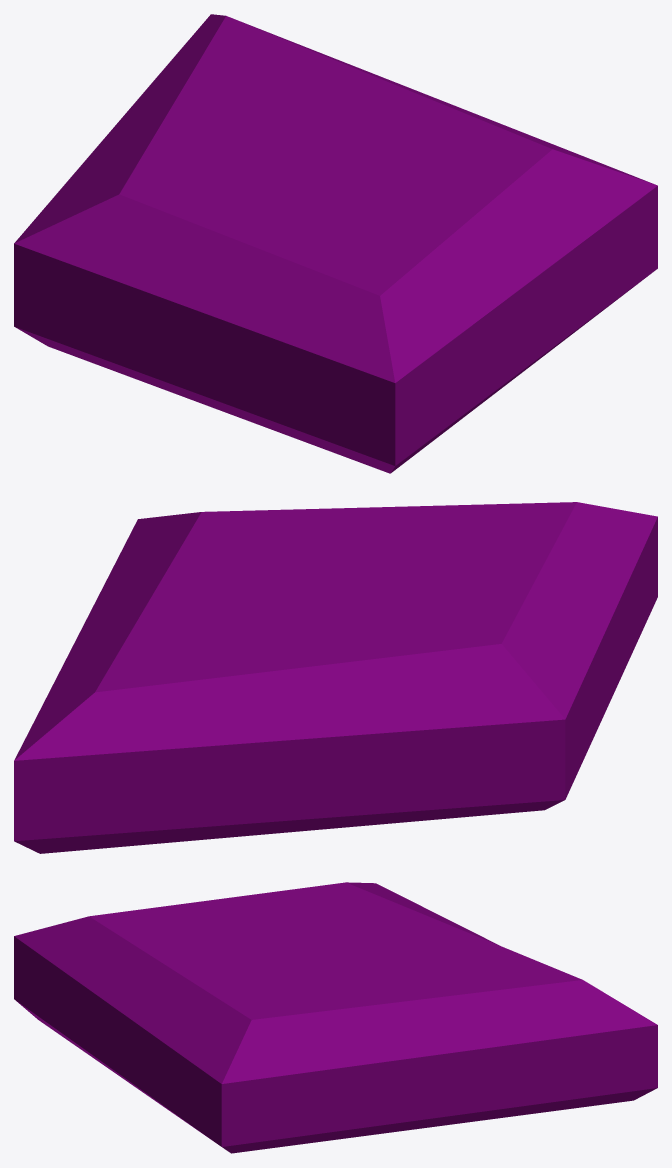
Rendered from Jem_19.fbx.
3 renders of one model, top to bottom at view 1: azimuth 30°, elevation 25°; view 2: azimuth 150°, elevation 25°; view 3: azimuth 270°, elevation 25°, orthographic. The views are drawn at different scales.
Visible parts, largest first — view 1: Jem_19; view 2: Jem_19; view 3: Jem_19.
Boxes of the visible parts, bbox=[...] form: Jem_19: bbox=[14, 14, 657, 473]; Jem_19: bbox=[14, 502, 657, 853]; Jem_19: bbox=[14, 882, 657, 1153].
Bounding box in the file's own units: 47.39 × 12.33 × 64.2.
